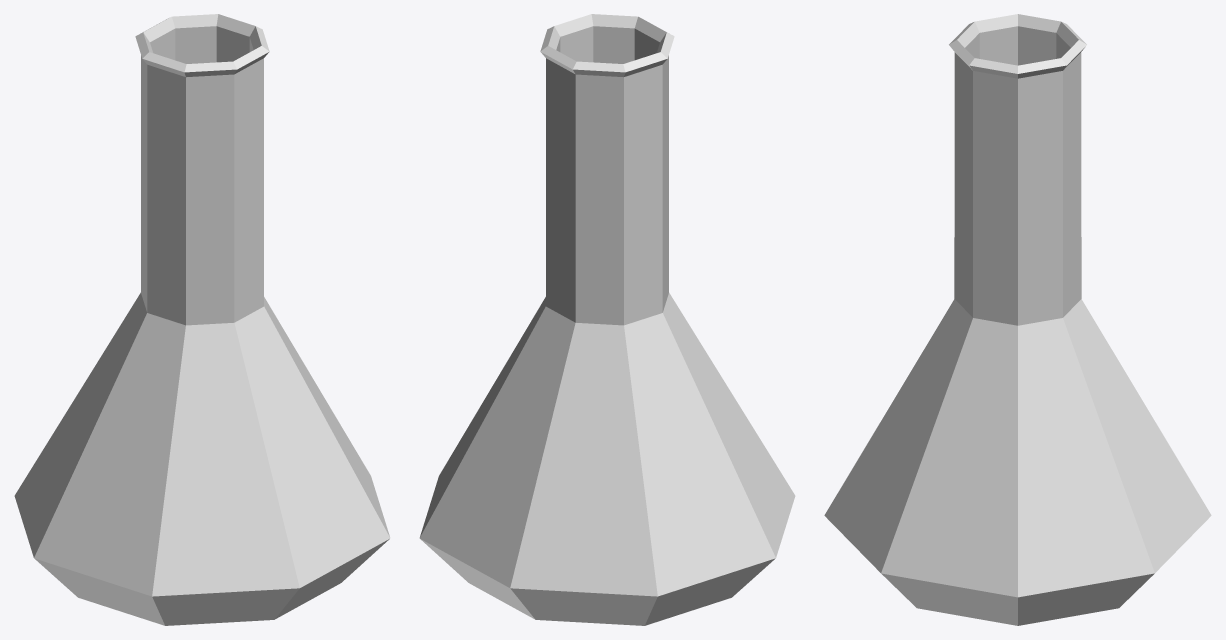
Rendered from Potion A.fbx.
3 renders of one model, left to right at view 1: azimuth 30°, elevation 25°; view 2: azimuth 150°, elevation 25°; view 3: azimuth 270°, elevation 25°, orthographic.
Parts seen in each view (by area): view 1: Circle.017; view 2: Circle.017; view 3: Circle.017.
Part boxes in pixels (<box>): Circle.017: <box>14,14,390,625</box>; Circle.017: <box>419,14,795,625</box>; Circle.017: <box>824,14,1211,625</box>.
Size of the model in its own units: 28.24 by 42.28 by 28.24.
2 materials, 1 textured.
